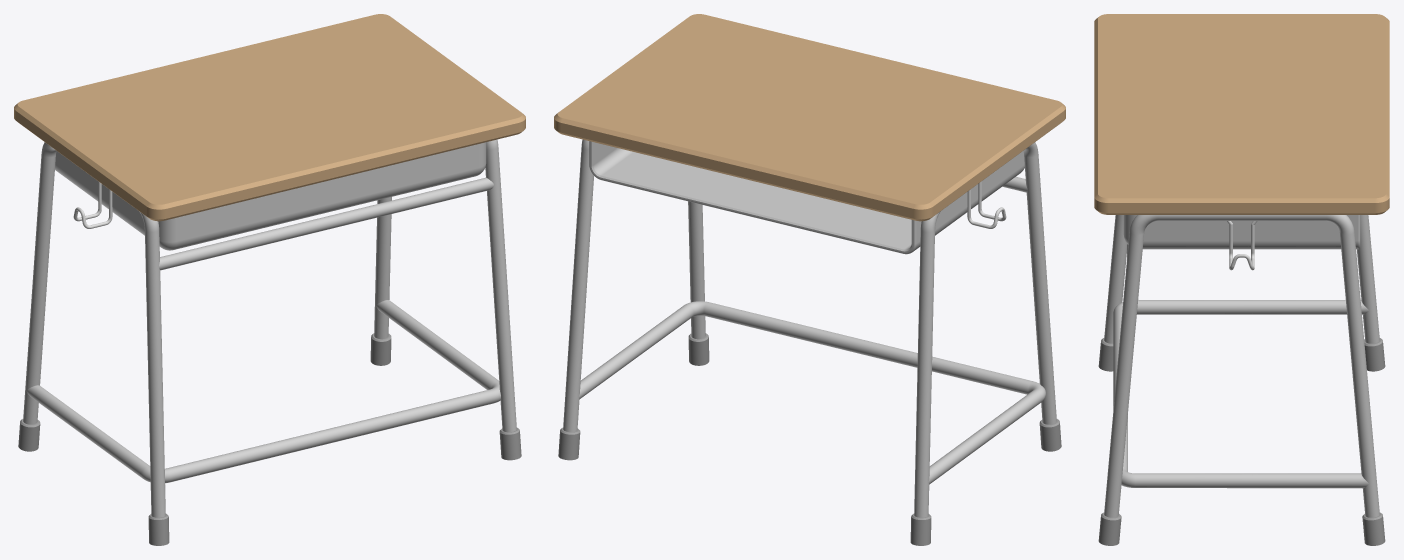
The model's file is 707_school_desk_S.glb.
3 renders of one model, left to right at view 1: azimuth 30°, elevation 25°; view 2: azimuth 150°, elevation 25°; view 3: azimuth 270°, elevation 25°, orthographic.
Visible parts, largest first — view 1: Body; view 2: Body; view 3: Body.
Boxes of the visible parts, x1,y1,x2,y2 form: Body: (14,14,525,545); Body: (554,14,1065,545); Body: (1094,14,1389,545).
Size of the model in its own units: 0.6093 by 0.5212 by 0.4.
